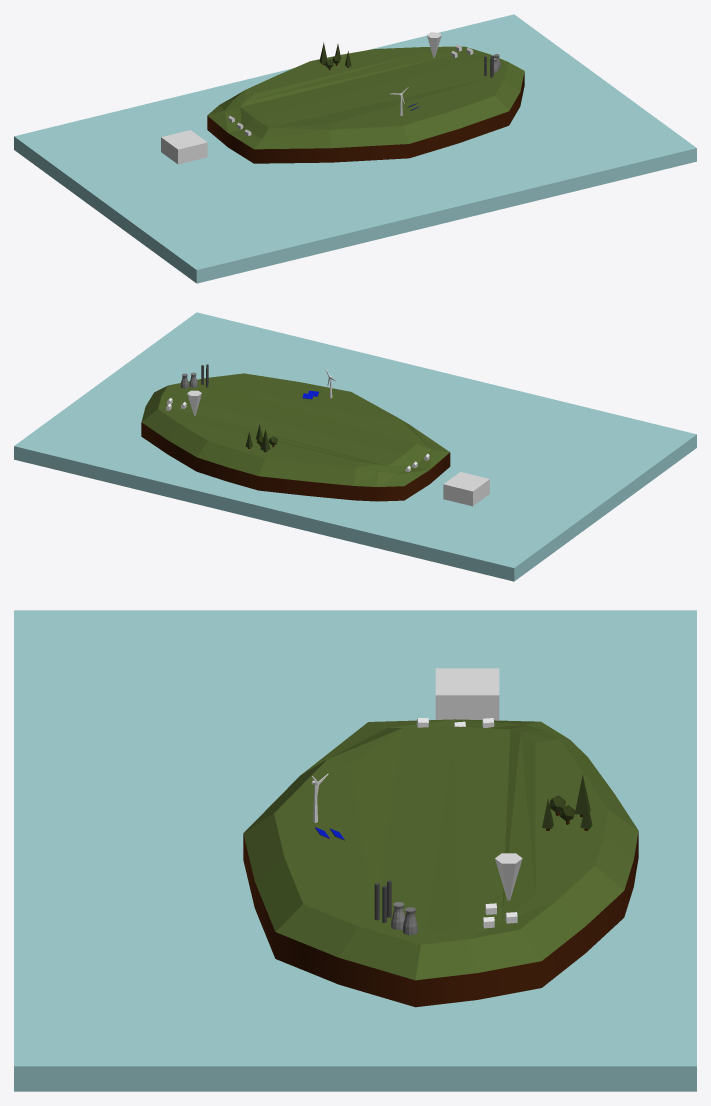
The model's file is newislandex.dae.
3 renders of one model, top to bottom at view 1: azimuth 30°, elevation 25°; view 2: azimuth 150°, elevation 25°; view 3: azimuth 270°, elevation 25°, orthographic. The views are drawn at different scales.
Parts seen in each view (by area): view 1: water, island, iceberg; view 2: water, island, iceberg; view 3: water, island, iceberg, tornado.
Boxes of the visible parts, x1=… form: water: x1=14, y1=14, x2=696, y2=283; island: x1=207, y1=46, x2=524, y2=163; iceberg: x1=161, y1=130, x2=207, y2=164; water: x1=14, y1=312, x2=696, y2=581; island: x1=141, y1=373, x2=450, y2=501; iceberg: x1=443, y1=472, x2=489, y2=506; water: x1=14, y1=610, x2=696, y2=1091; island: x1=243, y1=719, x2=638, y2=1007; iceberg: x1=435, y1=668, x2=499, y2=720; tornado: x1=495, y1=853, x2=522, y2=900.
Size of the model in its own units: 77.56 by 49.1 by 10.3.
